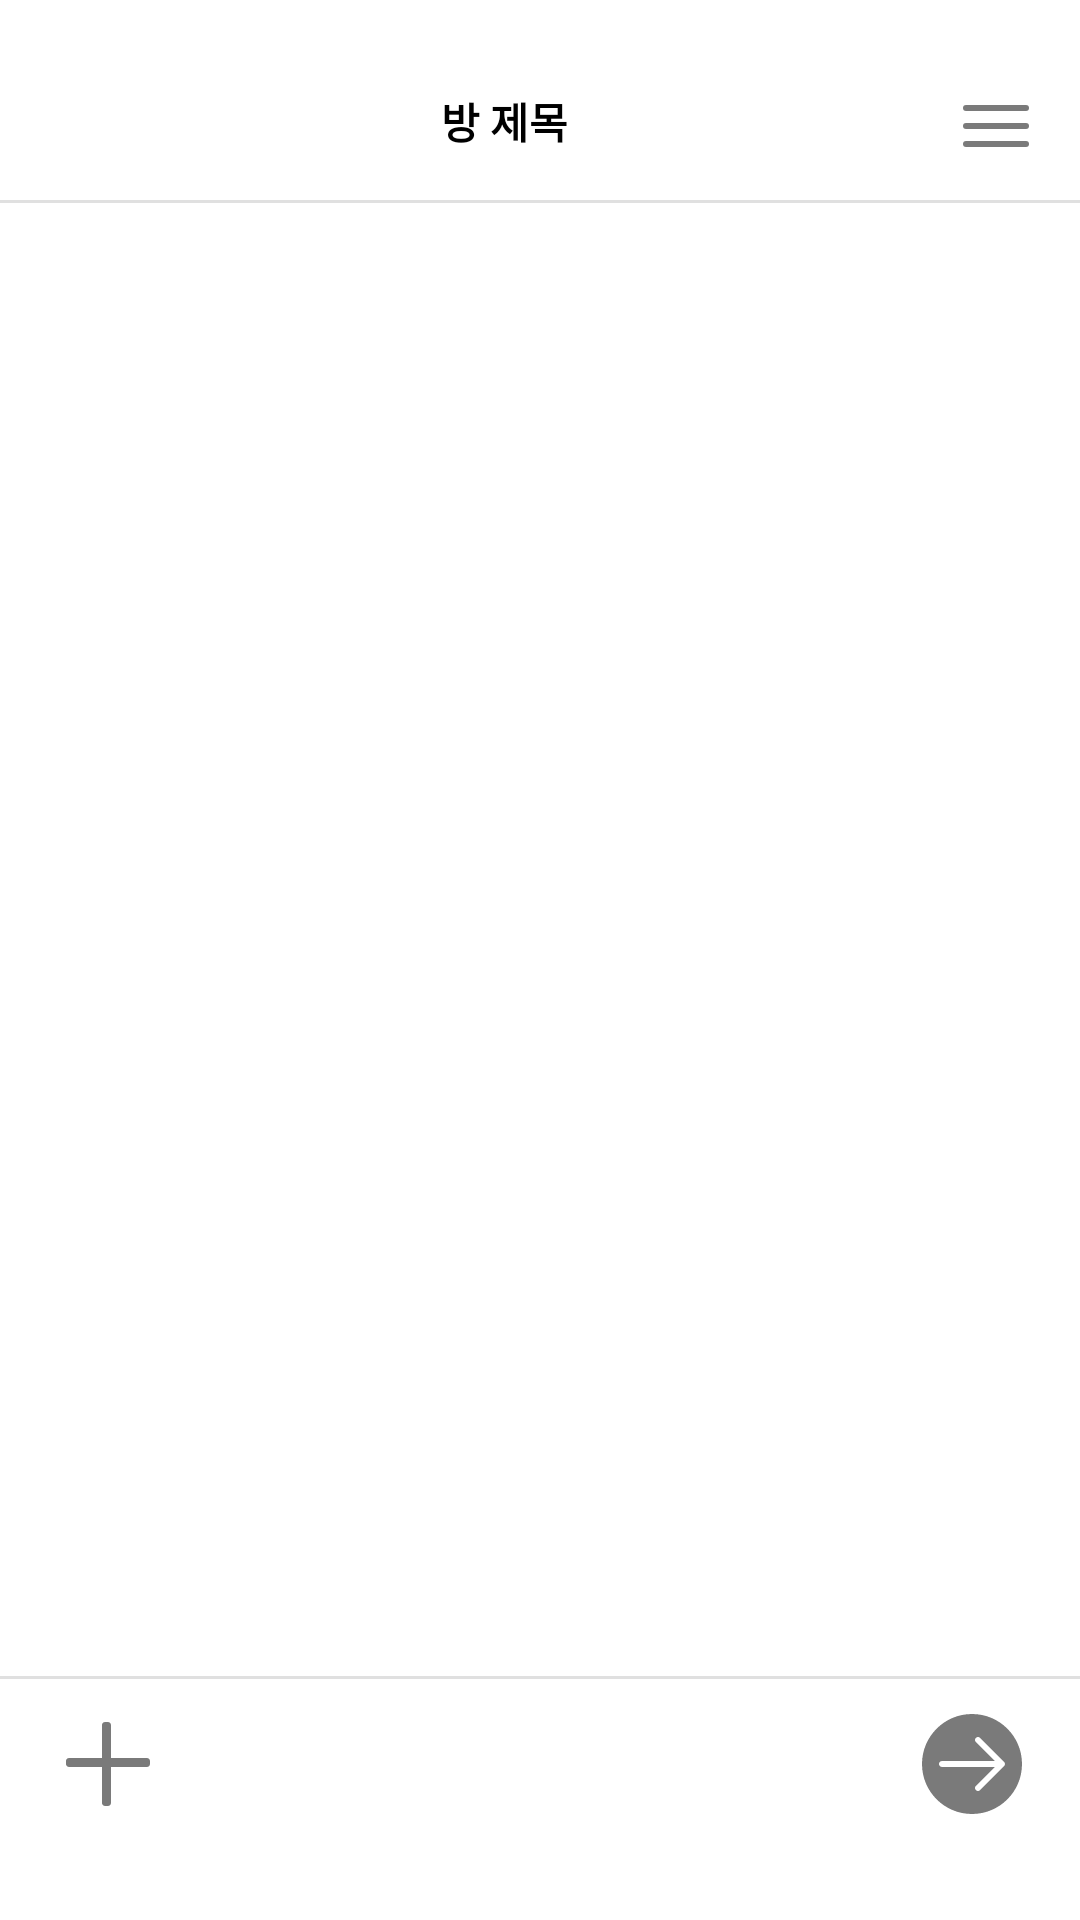

Icon click points for this 1080×1920 phone screenshot, format (x,y):
Add: (108,1764)
Options: (996,126)
Send: (972,1764)
